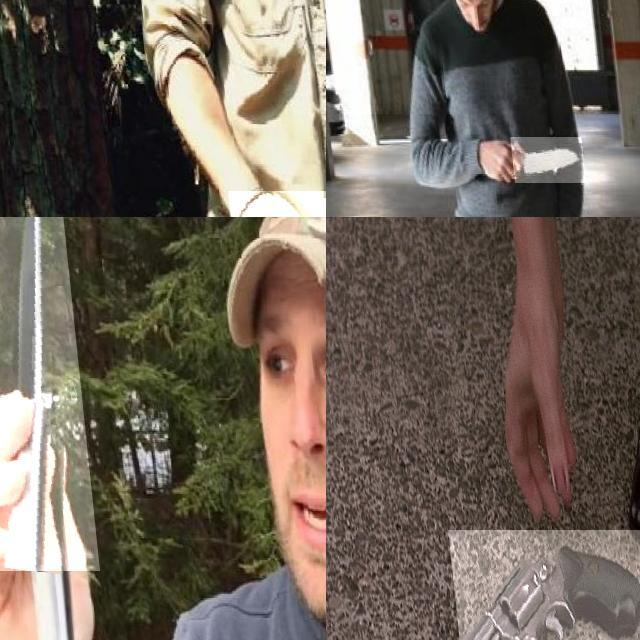-: (0, 217, 93, 571), (505, 137, 580, 183)
gun-knife-thesis - v11 Yolov5 augmented: (440, 529, 640, 640)
